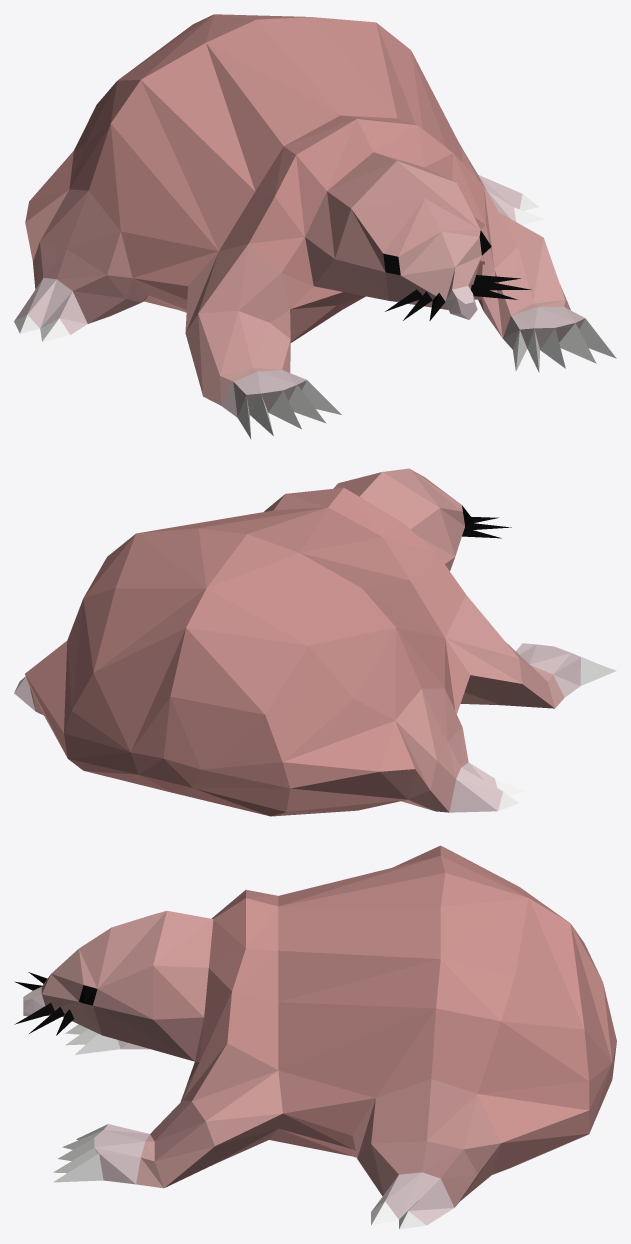
3 renders of one model, top to bottom at view 1: azimuth 30°, elevation 25°; view 2: azimuth 150°, elevation 25°; view 3: azimuth 270°, elevation 25°, orthographic. The views are drawn at different scales.
Size of the model in its own units: 128 by 55 by 130.
2 materials, 2 textured.
